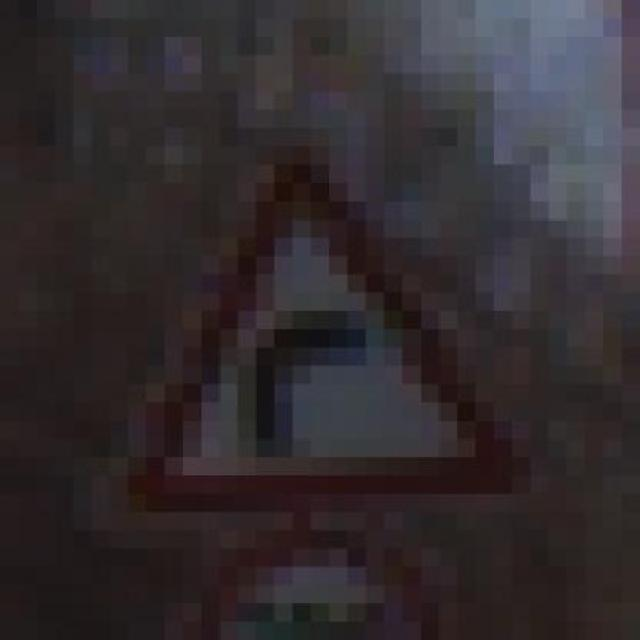Dangerous Rright Curve Ahead: (64, 127, 558, 511)
